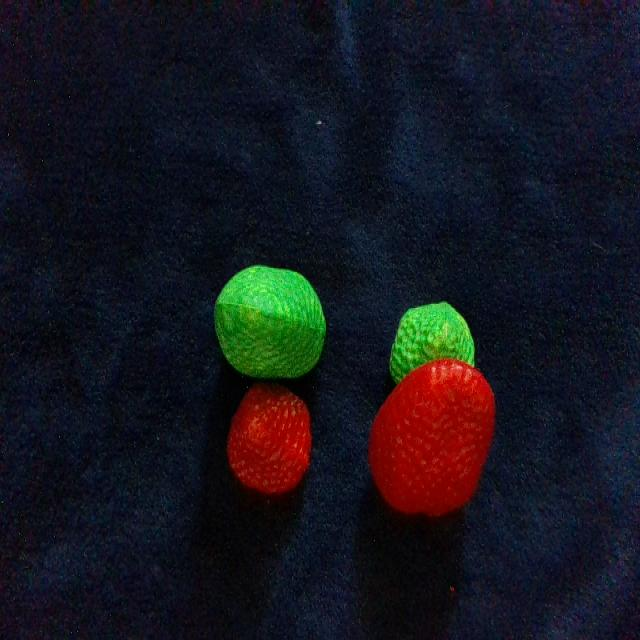chica_roja: (227, 383, 311, 493)
grande_roja: (369, 359, 494, 513)
verde: (215, 267, 325, 376), (390, 301, 474, 383)
